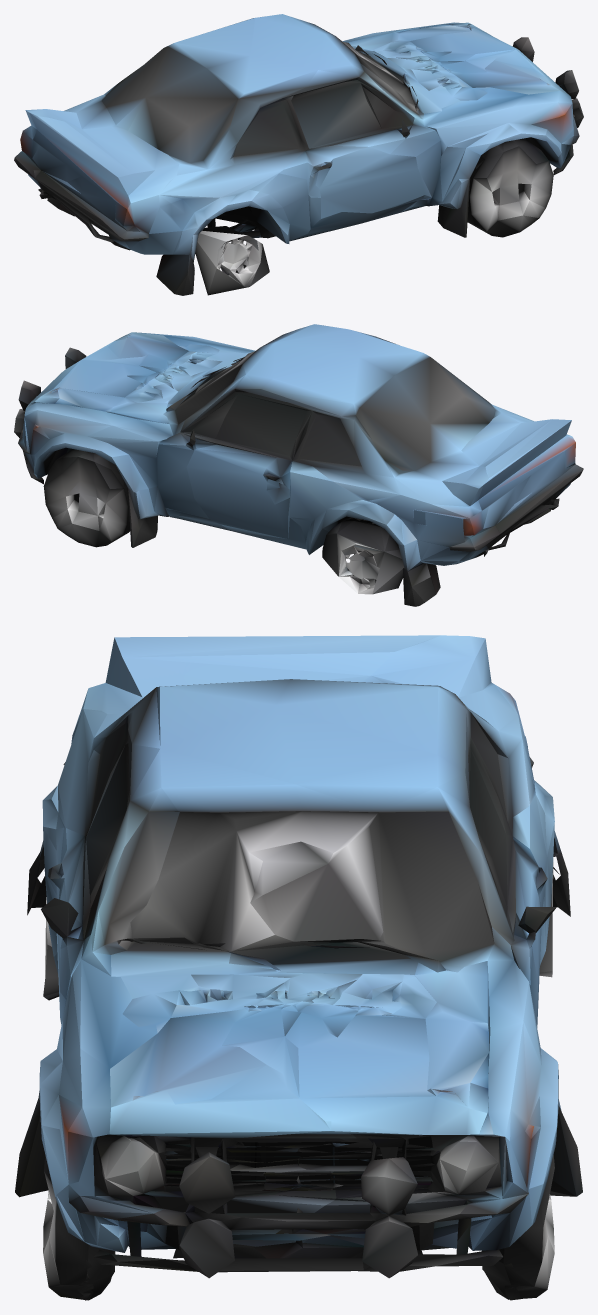
File: kz_kestrel_race.glb
The picture shows the model from 3 angles, top to bottom: view 1: azimuth 30°, elevation 25°; view 2: azimuth 150°, elevation 25°; view 3: azimuth 270°, elevation 25°; orthographic projection. The views are drawn at different scales.
Visible parts, largest first — view 1: body, wheel_FR_part, wheel_RR_part; view 2: body, wheel_FL_part, wheel_RL_part; view 3: body, wheel_FR_part, wheel_FL_part, wheel_RR_part.
Boxes of the visible parts, x1,y1,x2,y2 form: body: [14, 14, 583, 295]; wheel_FR_part: [467, 139, 553, 237]; wheel_RR_part: [193, 226, 269, 295]; body: [14, 324, 583, 606]; wheel_FL_part: [43, 449, 130, 547]; wheel_RL_part: [322, 521, 404, 594]; body: [15, 635, 582, 1300]; wheel_FR_part: [43, 1155, 115, 1300]; wheel_FL_part: [482, 1155, 554, 1299]; wheel_RR_part: [37, 859, 59, 1000].
Bounding box in the file's own units: 1.89 × 0.7065 × 0.9531.
